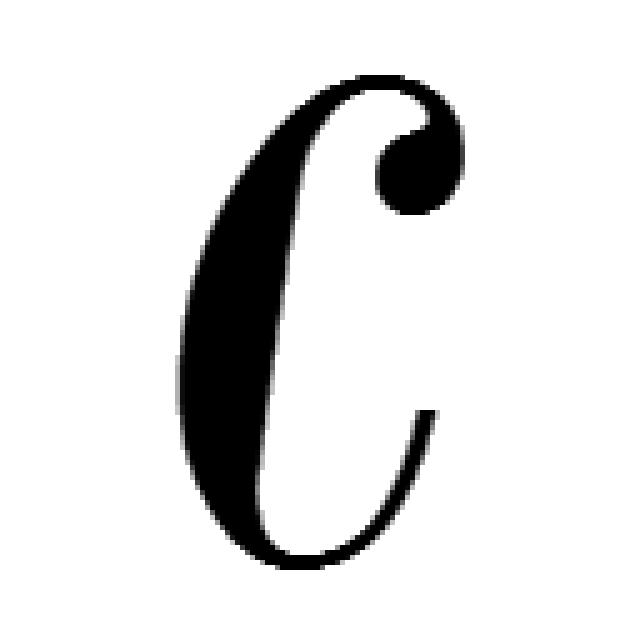C: (180, 75, 465, 575)
